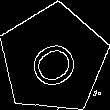O_NE: (21, 28, 86, 90)
